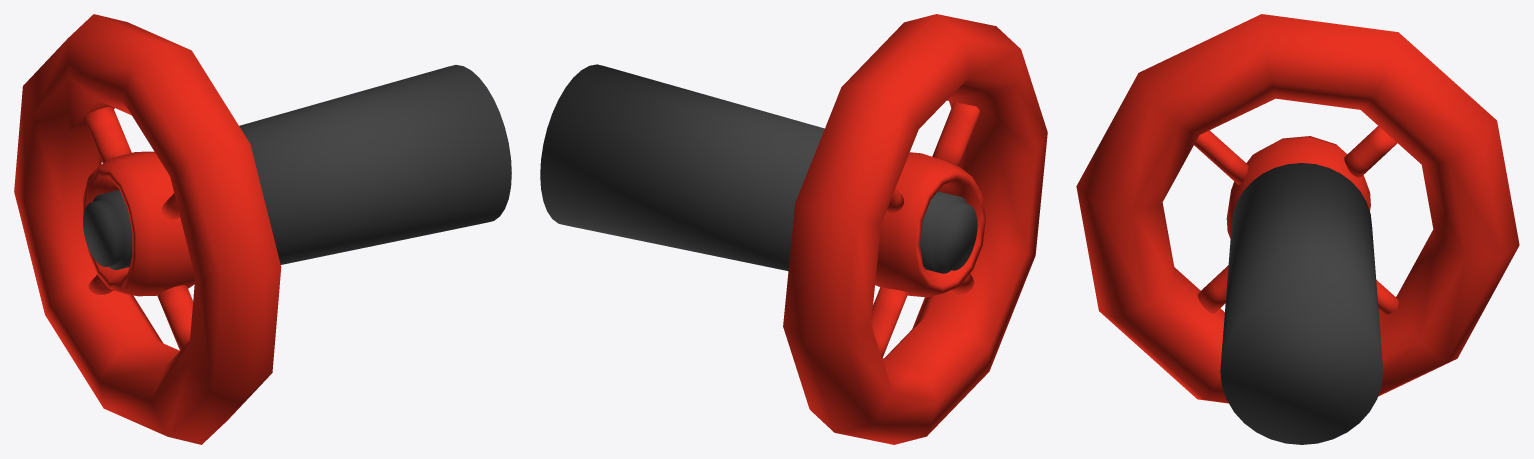
Rendered from ValvulaSemCano (2).fbx.
The picture shows the model from 3 angles, left to right: view 1: azimuth 30°, elevation 25°; view 2: azimuth 150°, elevation 25°; view 3: azimuth 270°, elevation 25°; orthographic projection.
Parts seen in each view (by area): view 1: Torus.002, Cylinder; view 2: Torus.002, Cylinder; view 3: Torus.002, Cylinder.
Boxes of the visible parts, x1,y1,x2,y2 form: Torus.002: (14,14,281,444); Cylinder: (83,65,511,269); Torus.002: (783,14,1047,444); Cylinder: (540,64,977,273); Torus.002: (1076,14,1519,403); Cylinder: (1220,163,1383,444).
Size of the model in its own units: 241 by 247 by 247.
